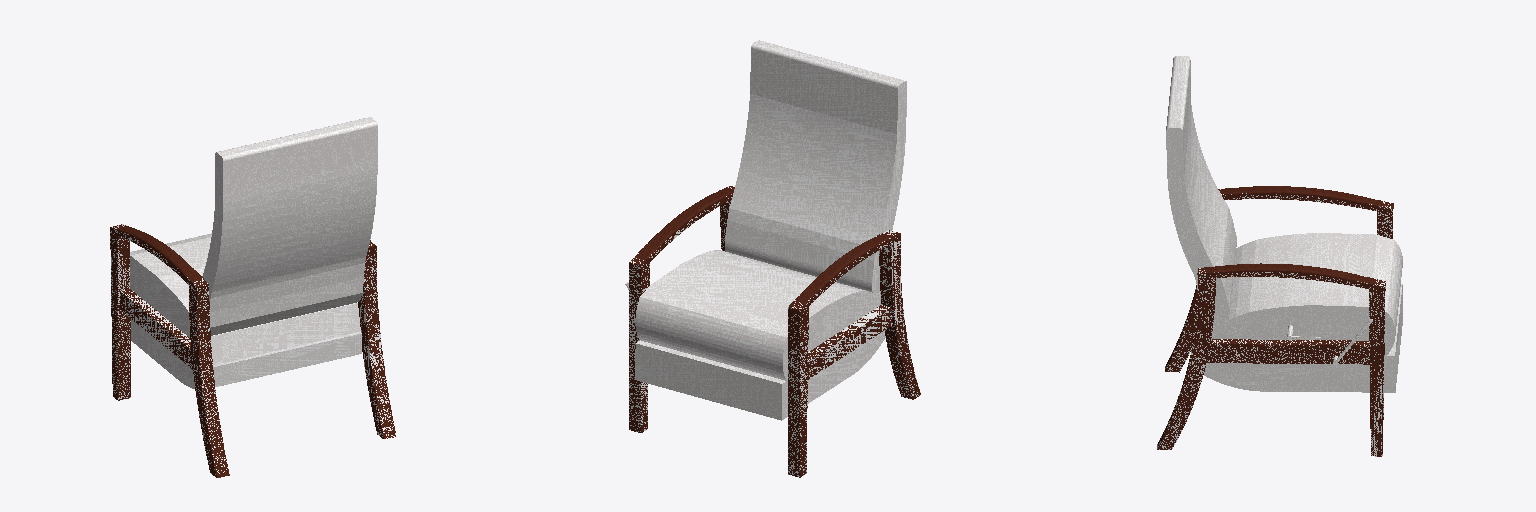
3 views of the same model, side by side, from view 1: azimuth 30°, elevation 25°; view 2: azimuth 150°, elevation 25°; view 3: azimuth 270°, elevation 25° (orthographic).
Parts seen in each view (by area): view 1: mesh8_mesh8-geometry, mesh7_mesh7-geometry, mesh25_mesh25-geometry, mesh2_mesh2-geometry, mesh14_mesh14-geometry, mesh4_mesh4-geometry, mesh1_mesh1-geometry, mesh21_mesh21-geometry; view 2: mesh8_mesh8-geometry, mesh7_mesh7-geometry, mesh25_mesh25-geometry, mesh4_mesh4-geometry, mesh2_mesh2-geometry, mesh21_mesh21-geometry, mesh1_mesh1-geometry, mesh16_mesh16-geometry; view 3: mesh7_mesh7-geometry, mesh8_mesh8-geometry, mesh25_mesh25-geometry, mesh26_mesh26-geometry, mesh14_mesh14-geometry, mesh21_mesh21-geometry, mesh9_mesh9-geometry, mesh2_mesh2-geometry, mesh10_mesh10-geometry, mesh3_mesh3-geometry.
Part boxes in pixels (bbox=[...]): mesh8_mesh8-geometry: bbox=[202, 117, 377, 335]; mesh7_mesh7-geometry: bbox=[130, 233, 360, 364]; mesh25_mesh25-geometry: bbox=[131, 319, 361, 388]; mesh2_mesh2-geometry: bbox=[189, 277, 229, 477]; mesh14_mesh14-geometry: bbox=[358, 246, 396, 439]; mesh4_mesh4-geometry: bbox=[110, 224, 130, 400]; mesh1_mesh1-geometry: bbox=[120, 289, 192, 369]; mesh21_mesh21-geometry: bbox=[110, 227, 375, 290]; mesh8_mesh8-geometry: bbox=[725, 40, 906, 294]; mesh7_mesh7-geometry: bbox=[635, 250, 881, 380]; mesh25_mesh25-geometry: bbox=[635, 330, 885, 420]; mesh4_mesh4-geometry: bbox=[788, 298, 808, 477]; mesh2_mesh2-geometry: bbox=[879, 230, 920, 399]; mesh21_mesh21-geometry: bbox=[637, 188, 900, 313]; mesh1_mesh1-geometry: bbox=[808, 305, 892, 379]; mesh16_mesh16-geometry: bbox=[629, 257, 649, 432]; mesh7_mesh7-geometry: bbox=[1210, 233, 1402, 355]; mesh8_mesh8-geometry: bbox=[1166, 56, 1236, 325]; mesh25_mesh25-geometry: bbox=[1204, 284, 1402, 392]; mesh26_mesh26-geometry: bbox=[1207, 339, 1369, 364]; mesh14_mesh14-geometry: bbox=[1157, 272, 1215, 449]; mesh21_mesh21-geometry: bbox=[1197, 186, 1393, 290]; mesh9_mesh9-geometry: bbox=[1369, 284, 1384, 456]; mesh2_mesh2-geometry: bbox=[1165, 189, 1221, 372]; mesh10_mesh10-geometry: bbox=[1215, 271, 1368, 288]; mesh3_mesh3-geometry: bbox=[1222, 188, 1376, 210].
Bounding box in the file's own units: 0.4587 × 0.7288 × 0.5084.
5 materials, 2 textured.